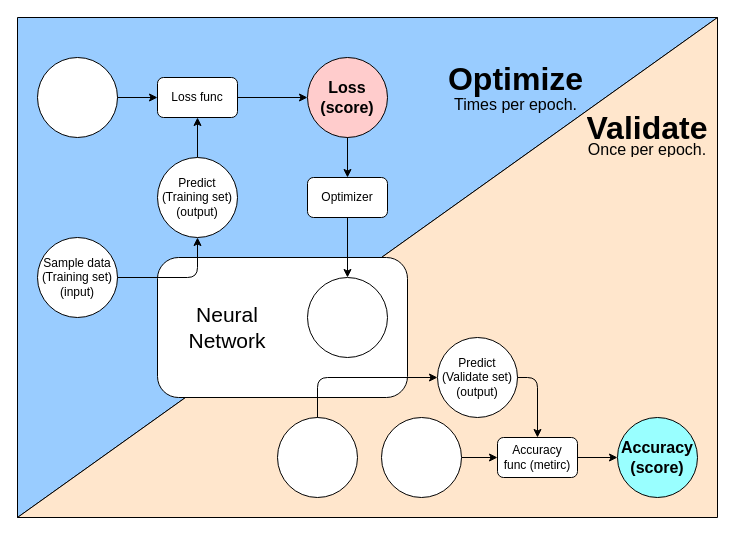
The diagram is 735 pixels wide and 536 high, and some of its shapes have lost their labels. Each missing label, with the box of its shape:
Label (Training set) (expect output): (36, 56, 118, 138)
Label (Validate set) (expect output): (380, 416, 462, 498)
Sample data (Validate set) (input): (276, 416, 358, 498)
Weights: (306, 276, 388, 358)
